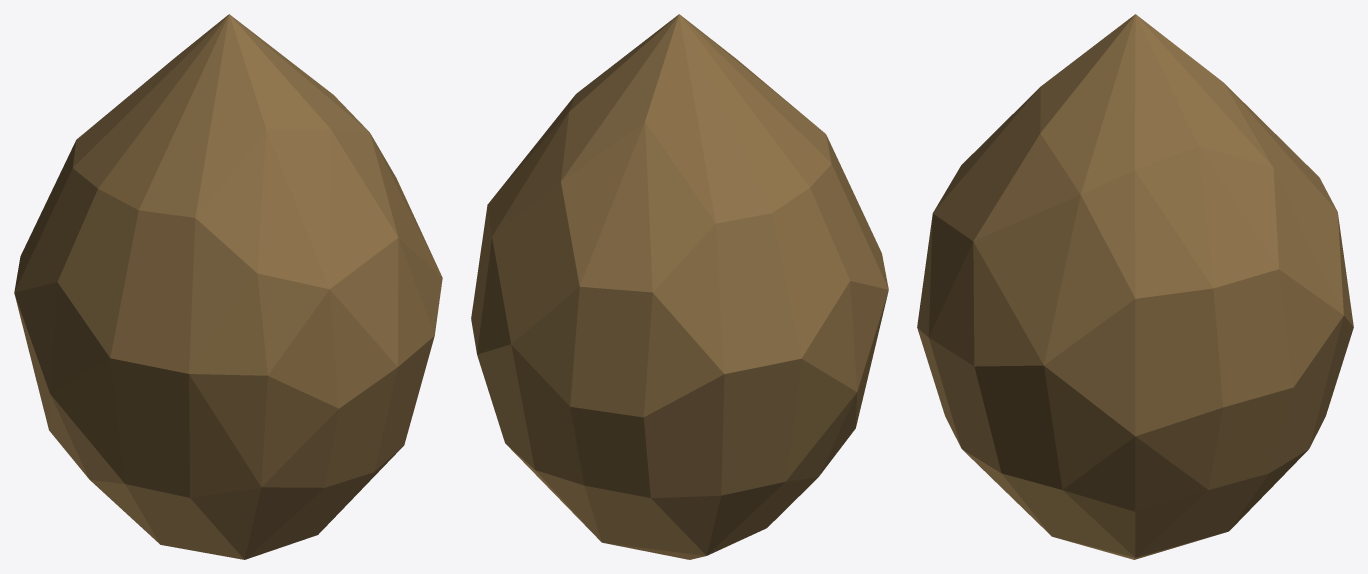
File: seed_tree.fbx
3 renders of one model, left to right at view 1: azimuth 30°, elevation 25°; view 2: azimuth 150°, elevation 25°; view 3: azimuth 270°, elevation 25°, orthographic.
Parts seen in each view (by area): view 1: Sphere.002; view 2: Sphere.002; view 3: Sphere.002.
Part boxes in pixels (x1,y1,x2,y2): Sphere.002: (14, 14, 442, 559); Sphere.002: (471, 14, 888, 559); Sphere.002: (917, 14, 1353, 559).
Bounding box in the file's own units: 174 × 252 × 184.
